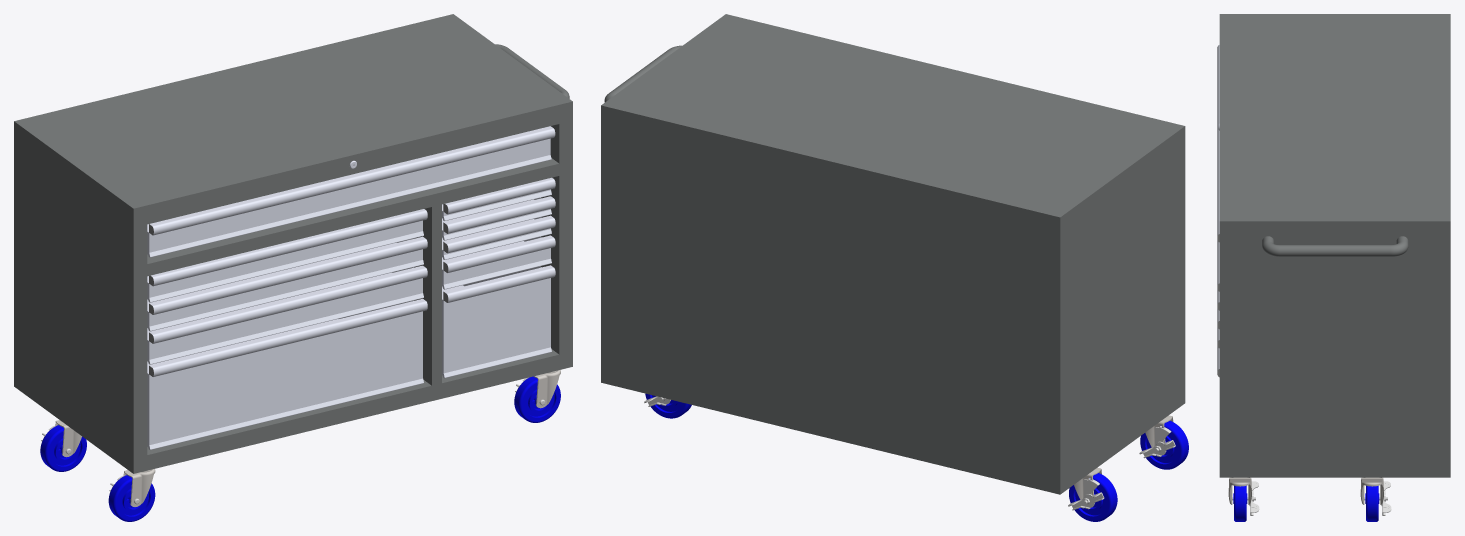
File: toolbox.gltf
The picture shows the model from 3 angles, left to right: view 1: azimuth 30°, elevation 25°; view 2: azimuth 150°, elevation 25°; view 3: azimuth 270°, elevation 25°; orthographic projection. The views are drawn at different scales.
Parts seen in each view (by area): view 1: Tool Chest Bottom Frame, Husky Tool Chest Drawer_32.4" W x 9.4" H (×2), Husky Tool Chest Drawer_32.4" W x 3.1" H (×4), Husky Tool Chest Drawer_47.5" W x 3.75" H (×2), Husky Tool Chest Drawer_12.7" W x 9.75" H (×2), Husky Tool Chest Drawer_32.4" W x 3.6" H (×2), Husky Tool Chest Drawer_12.7" W x 2" H (×6), CCE# 5205020-5395 (Wheel) (×3), Husky Tool Chest Drawer_12.7" W x 3.1" H (×2), CCE# 5205020-5395 (Rig) (×2); view 2: Tool Chest Bottom Frame, CCE# 5205020-5395 (Wheel) (×2); view 3: Tool Chest Bottom Frame, CCE# 5205020-5395 (Wheel) (×2), CCE# 5205020-5395 (Rig) (×2), Husky Tool Chest Drawer_47.5" W x 3.75" H.
Boxes of the visible parts, x1,y1,x2,y2 form: Tool Chest Bottom Frame: [14, 14, 572, 473]; Husky Tool Chest Drawer_32.4" W x 9.4" H (×2): [147, 298, 427, 449]; Husky Tool Chest Drawer_32.4" W x 3.1" H (×4): [147, 209, 427, 331]; Husky Tool Chest Drawer_47.5" W x 3.75" H (×2): [147, 126, 555, 257]; Husky Tool Chest Drawer_12.7" W x 9.75" H (×2): [442, 265, 555, 378]; Husky Tool Chest Drawer_32.4" W x 3.6" H (×2): [147, 265, 427, 364]; Husky Tool Chest Drawer_12.7" W x 2" H (×6): [442, 177, 555, 259]; CCE# 5205020-5395 (Wheel) (×3): [40, 376, 560, 521]; Husky Tool Chest Drawer_12.7" W x 3.1" H (×2): [442, 235, 555, 289]; CCE# 5205020-5395 (Rig) (×2): [123, 370, 560, 506]; Tool Chest Bottom Frame: [601, 14, 1185, 494]; CCE# 5205020-5395 (Wheel) (×2): [1069, 421, 1188, 521]; Tool Chest Bottom Frame: [1219, 14, 1450, 477]; CCE# 5205020-5395 (Wheel) (×2): [1233, 485, 1379, 521]; CCE# 5205020-5395 (Rig) (×2): [1228, 477, 1383, 504]; Husky Tool Chest Drawer_47.5" W x 3.75" H: [1217, 45, 1219, 242].
Size of the model in its own units: 1.43 by 0.922 by 0.6293.
